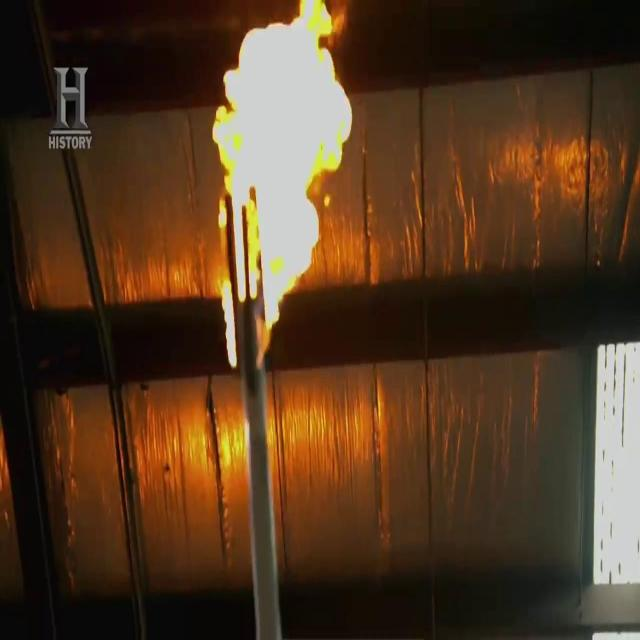Fire: (212, 12, 364, 352)
